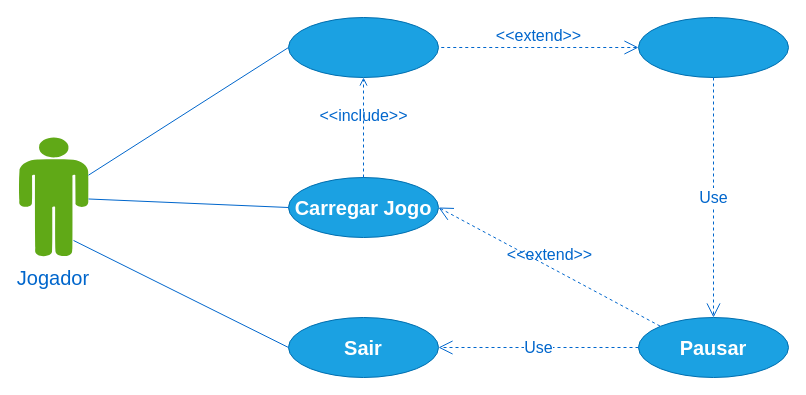
The diagram is 806 pixels wide and 395 high, and some of its shapes have lost their labels. Each missing label, with the centre of its shape:
Iniciar Jogo: (363,47)
Jogar: (713,47)
